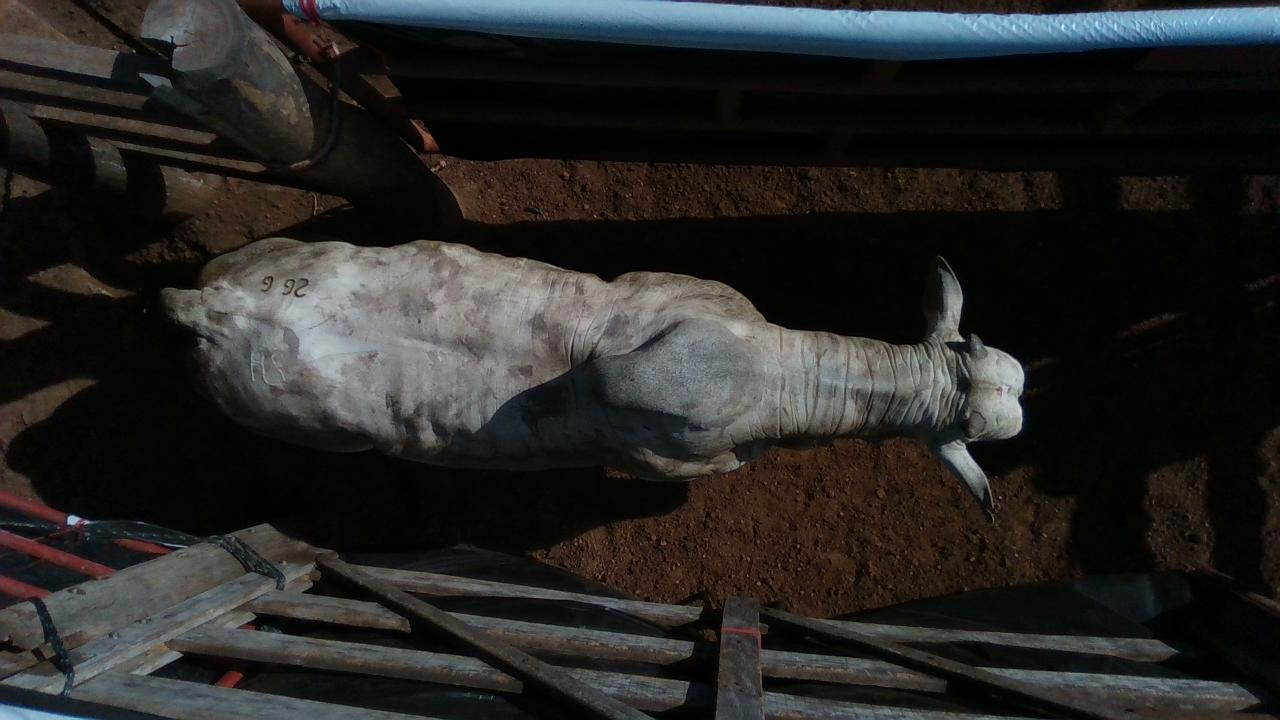cattle: (158, 234, 1027, 521)
